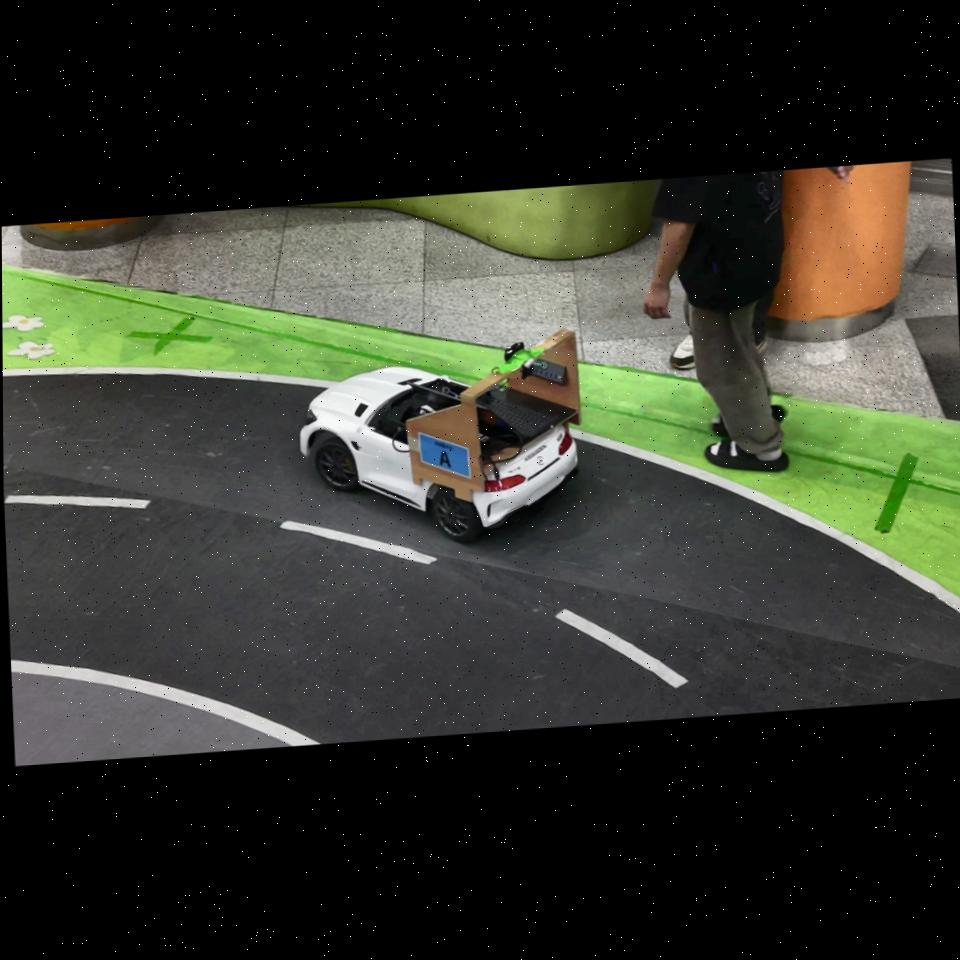broken_line: (555, 609, 690, 688), (279, 520, 438, 564), (4, 495, 151, 508)
